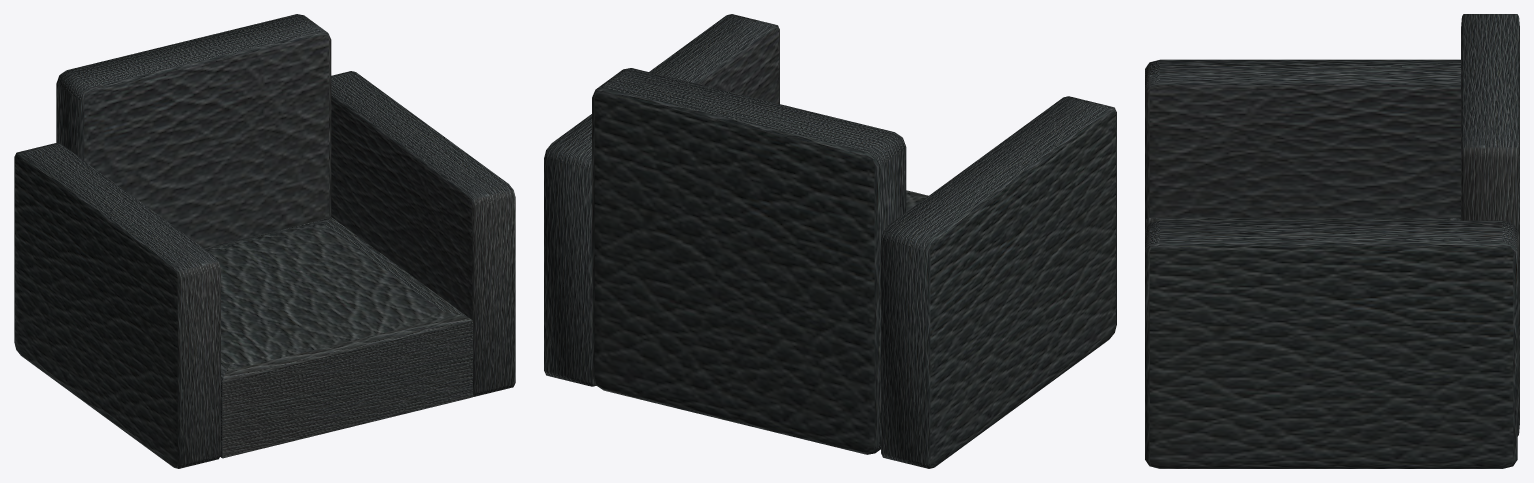
File: Couch.fbx
The picture shows the model from 3 angles, left to right: view 1: azimuth 30°, elevation 25°; view 2: azimuth 150°, elevation 25°; view 3: azimuth 270°, elevation 25°; orthographic projection. The views are drawn at different scales.
Visible parts, largest first — view 1: Couch; view 2: Couch; view 3: Couch.
Part boxes in pixels (x1,y1,x2,y2): Couch: [14, 14, 515, 468]; Couch: [544, 14, 1116, 468]; Couch: [1145, 14, 1519, 468].
Bounding box in the file's own units: 379 × 287 × 325.
